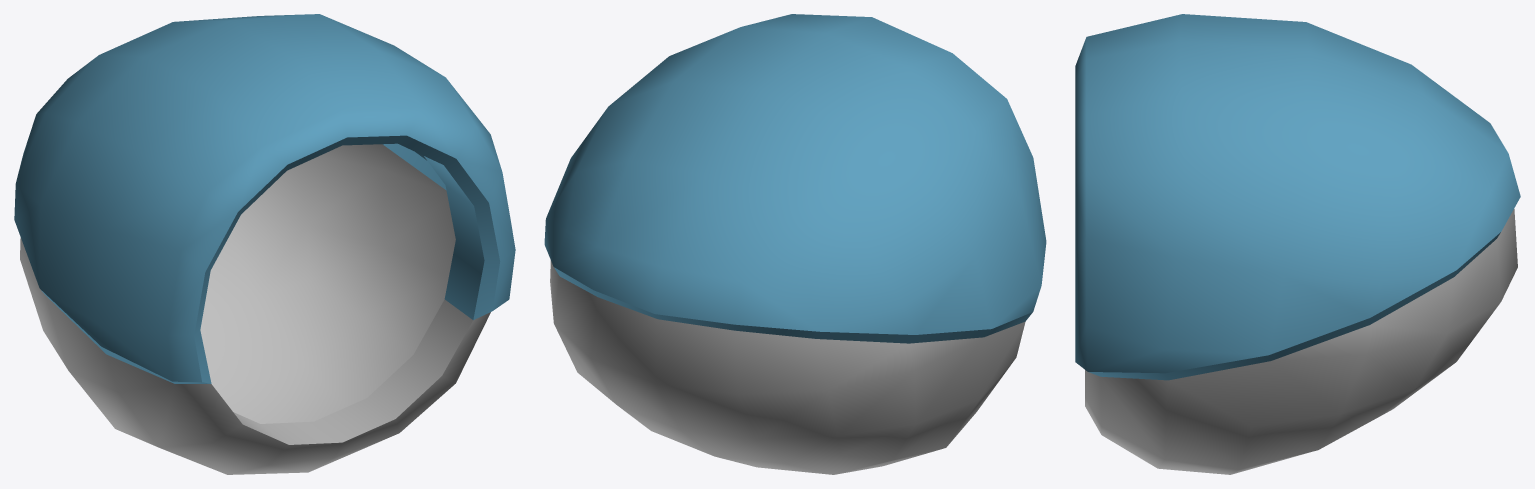
Rendered from head.glb.
The picture shows the model from 3 angles, left to right: view 1: azimuth 30°, elevation 25°; view 2: azimuth 150°, elevation 25°; view 3: azimuth 270°, elevation 25°; orthographic projection.
Parts seen in each view (by area): view 1: SimpleAvatar_Head; view 2: SimpleAvatar_Head; view 3: SimpleAvatar_Head.
Part boxes in pixels (x1,y1,x2,y2): SimpleAvatar_Head: (14,14,515,474); SimpleAvatar_Head: (544,14,1046,474); SimpleAvatar_Head: (1075,14,1520,474).
Size of the model in its own units: 0.687 by 0.6325 by 0.6298.
